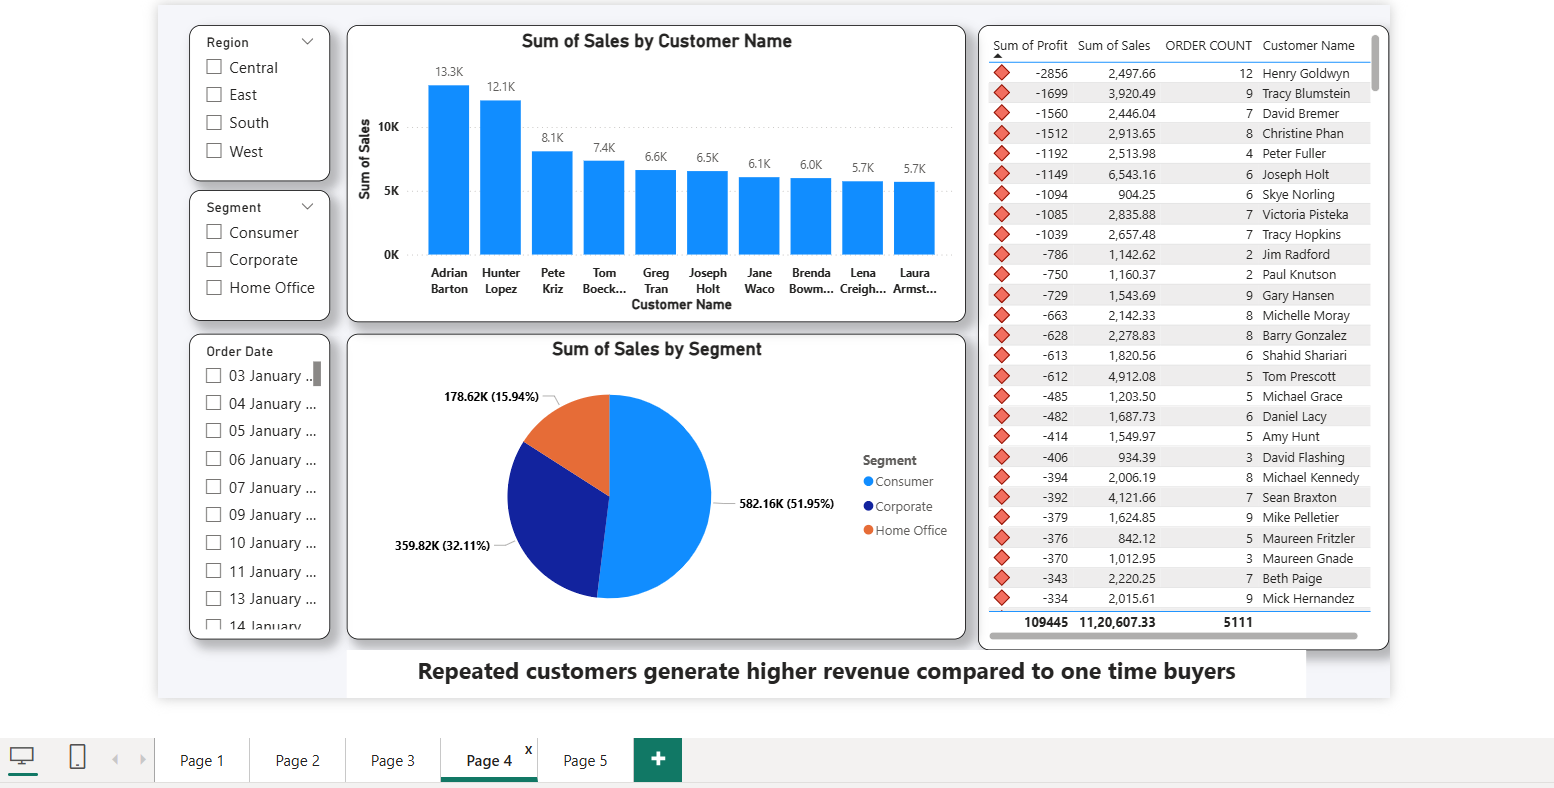

The dashboard page shown, as its layout file describes it:
{"tool":"powerbi","page":{"name":"Page 4","canvas":[1280,720],"ordinal":3},"visuals":[{"type":"tableEx","fields":{"Values":["Sum(Orders.Profit)","Sum(Orders.Sales)","Orders.ORDER COUNT","Orders.Customer Name"]},"box":[852.2,20.3,427.5,649.3],"z":0},{"type":"pieChart","fields":{"Category":["Orders.Segment"],"Y":["Sum(Orders.Sales)"]},"box":[195.7,342,643.5,317.4],"z":1000},{"type":"columnChart","fields":{"Category":["Orders.Customer Name"],"Y":["Sum(Orders.Sales)"]},"box":[195.7,20.3,643.5,308.7],"z":2000},{"type":"slicer","fields":{"Values":["Orders.Region"]},"box":[31.9,20.3,146.4,162.3],"z":3000},{"type":"slicer","fields":{"Values":["Orders.Segment"]},"box":[31.9,192.8,146.4,136.2],"z":4000},{"type":"slicer","fields":{"Values":["Orders.Order Date"]},"box":[31.9,342,146.4,317.4],"z":5000},{"type":"textbox","box":[195.7,669.6,997.1,50.7],"z":6000}]}

Visuals, with their boxes on the page's 1280x720 design canvas (x1, y1, x2, y2). These are canvas units, not pixel positions in the 1554x788 screenshot, which may show the page scaled, cropped or inside an application window:
tableEx - Sum(Orders.Profit) x Sum(Orders.Sales): <box>852,20,1280,670</box>
pieChart - Orders.Segment x Sum(Orders.Sales): <box>196,342,839,659</box>
columnChart - Orders.Customer Name x Sum(Orders.Sales): <box>196,20,839,329</box>
slicer - Orders.Region: <box>32,20,178,183</box>
slicer - Orders.Segment: <box>32,193,178,329</box>
slicer - Orders.Order Date: <box>32,342,178,659</box>
textbox: <box>196,670,1193,720</box>
